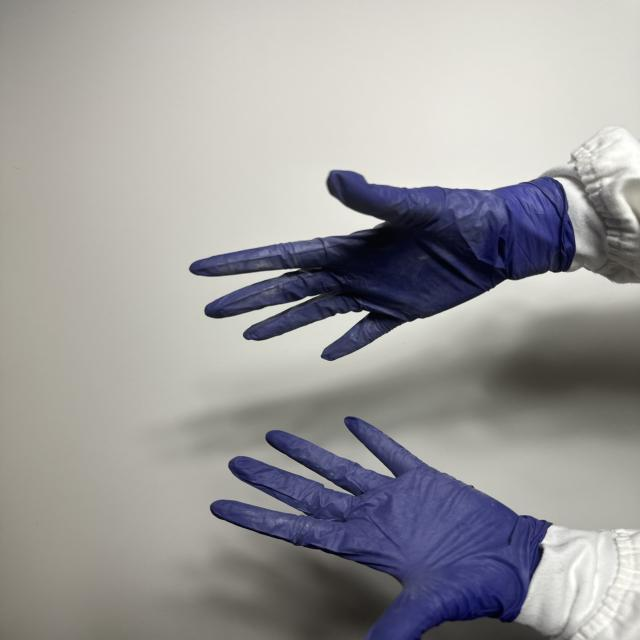gloves_contaminated: (211, 417, 550, 640), (190, 171, 574, 360)
